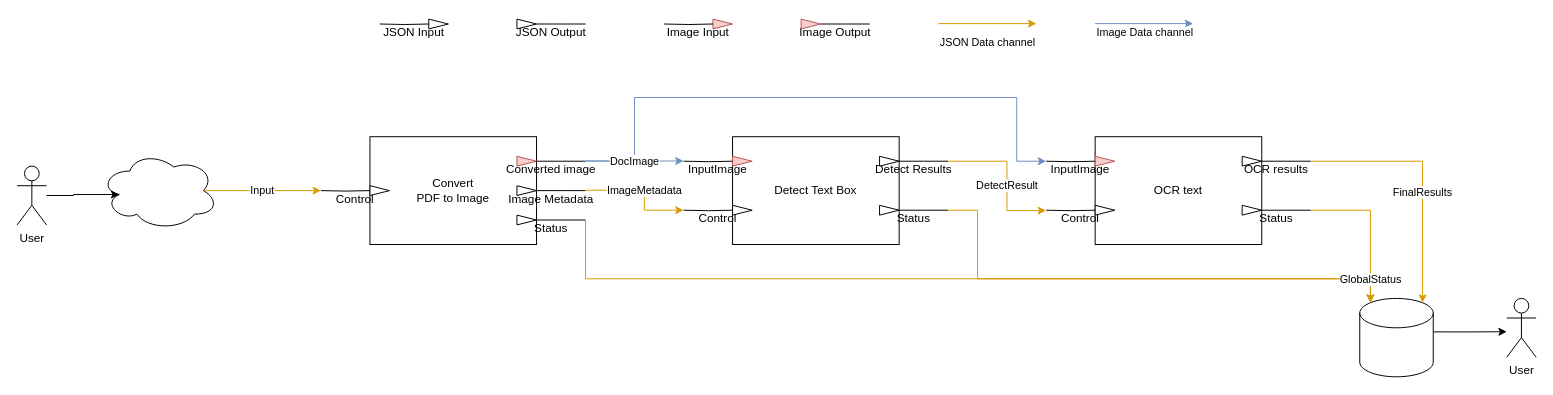
Image size: 1553x395. Some labels were removed from this diagram. Here are the shapes that lost their labels. From the top down, the box of each, then its label:
(99, 150, 218, 230): API call
(1359, 297, 1433, 377): Database
